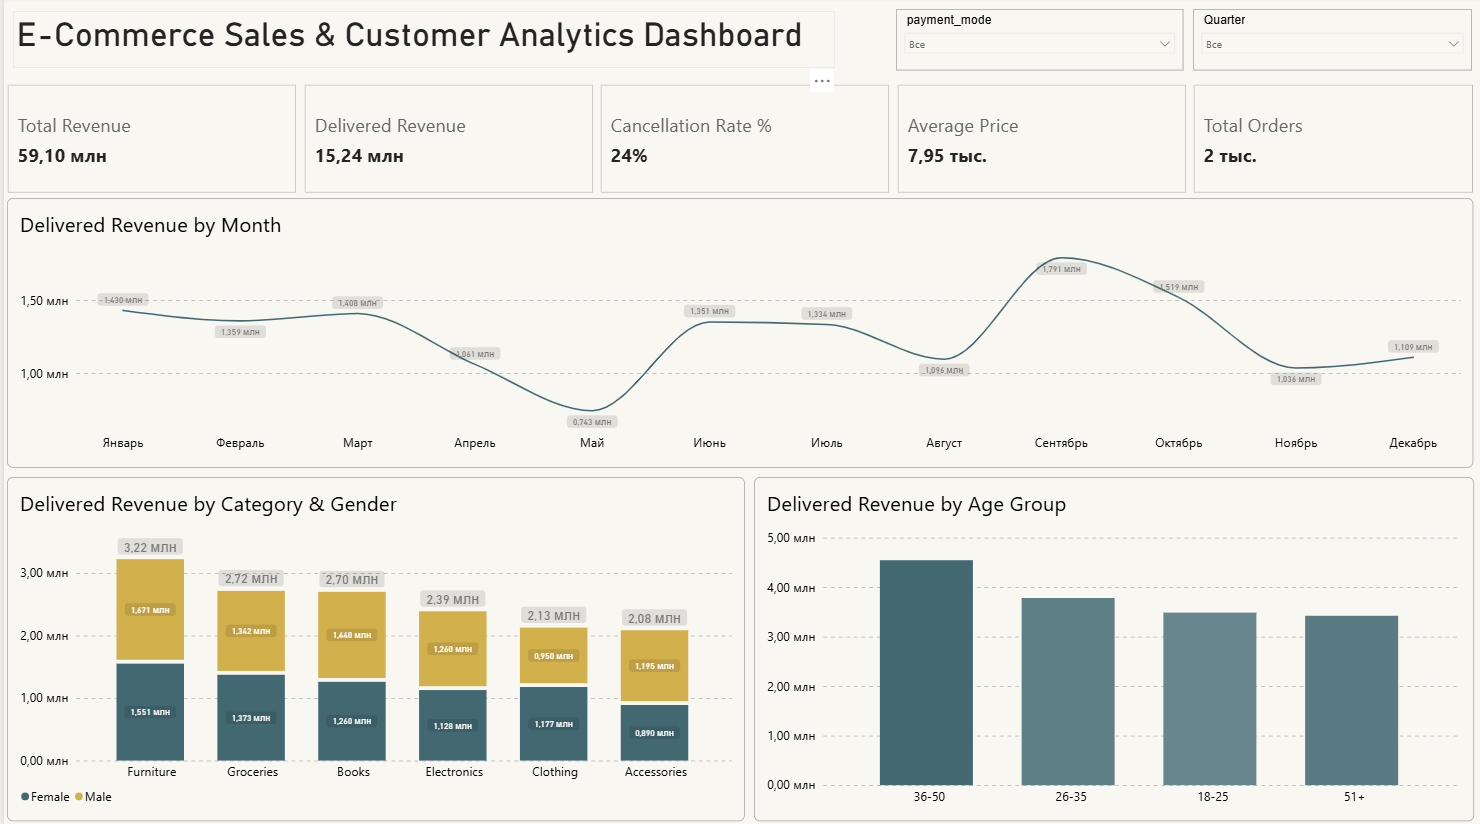

The dashboard page shown, as its layout file describes it:
{"tool":"powerbi","page":{"name":"Part 1","canvas":[1920,1080],"ordinal":0},"visuals":[{"type":"cardVisual","fields":{"Data":["Запрос1.Delivered Revenue"]},"box":[385.9,109.8,385.9,150.6],"z":1000},{"type":"cardVisual","fields":{"Data":["Запрос1.Total Orders"]},"box":[1543.5,109.8,373.3,150.6],"z":2000},{"type":"cardVisual","fields":{"Data":["Запрос1.Total Revenue"]},"box":[0,109.8,385.9,150.6],"z":3000},{"type":"cardVisual","fields":{"Data":["Запрос1.Cancellation Rate %"]},"box":[771.8,109.8,385.9,150.6],"z":4000},{"type":"lineChart","title":"Delivered Revenue by Month","fields":{"Category":["Запрос1.purchase_date.Изменение.Иерархия дат.Год","Запрос1.purchase_date.Изменение.Иерархия дат.Месяц"],"Y":["Запрос1.Delivered Revenue"]},"box":[4,261.1,1908,351],"z":5000},{"type":"columnChart","title":"Delivered Revenue by Category & Gender","fields":{"Category":["Запрос1.product_category"],"Series":["Запрос1.gender"],"Y":["Запрос1.Delivered Revenue"]},"box":[4,624,960,448],"z":6000},{"type":"columnChart","title":"Delivered Revenue by Age Group","fields":{"Category":["Запрос1.age_group"],"Y":["Запрос1.Delivered Revenue"]},"box":[976,624,937,448],"z":7000},{"type":"textbox","box":[11.7,18.2,1069.6,74.2],"z":8000},{"type":"cardVisual","fields":{"Data":["Avg(Запрос1.price)"]},"box":[1157.6,109.8,385.9,150.6],"z":9000},{"type":"slicer","fields":{"Values":["Sales.payment_mode"]},"box":[1161,16,374,80],"z":10000},{"type":"slicer","fields":{"Values":["Sales.purchase_date.Изменение.Иерархия дат.Квартал"]},"box":[1547,16,363,80],"z":11000}]}

Visuals, with their boxes in screenshot pixels (x1, y1, x2, y2), scaled from the page's 1920x1080 canvas onto the 1480x824 screenshot:
cardVisual - Запрос1.Delivered Revenue: select_region(297, 84, 595, 199)
cardVisual - Запрос1.Total Orders: select_region(1190, 84, 1478, 199)
cardVisual - Запрос1.Total Revenue: select_region(0, 84, 297, 199)
cardVisual - Запрос1.Cancellation Rate %: select_region(595, 84, 892, 199)
"Delivered Revenue by Month" lineChart: select_region(3, 199, 1474, 467)
"Delivered Revenue by Category & Gender" columnChart: select_region(3, 476, 743, 818)
"Delivered Revenue by Age Group" columnChart: select_region(752, 476, 1475, 818)
textbox: select_region(9, 14, 834, 70)
cardVisual - Avg(Запрос1.price): select_region(892, 84, 1190, 199)
slicer - Sales.payment_mode: select_region(895, 12, 1183, 73)
slicer - Sales.purchase_date.Изменение.Иерархия дат.Квартал: select_region(1192, 12, 1472, 73)
